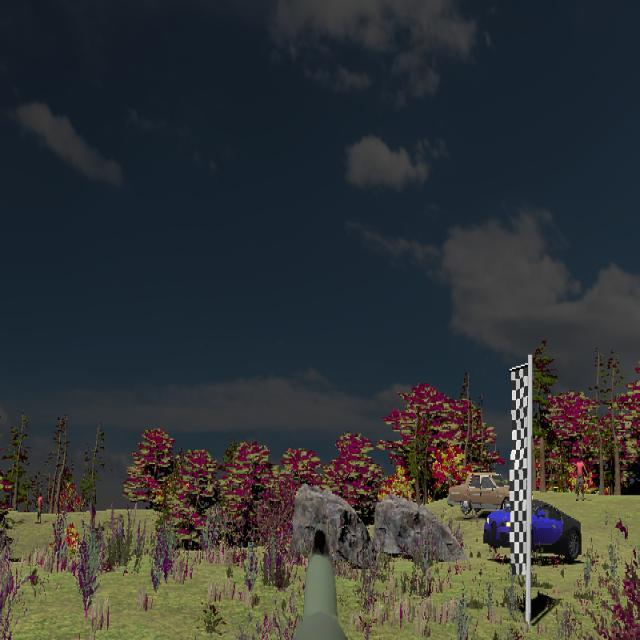Human: (572, 454, 588, 501)
car: (483, 497, 583, 560), (447, 472, 533, 514)
